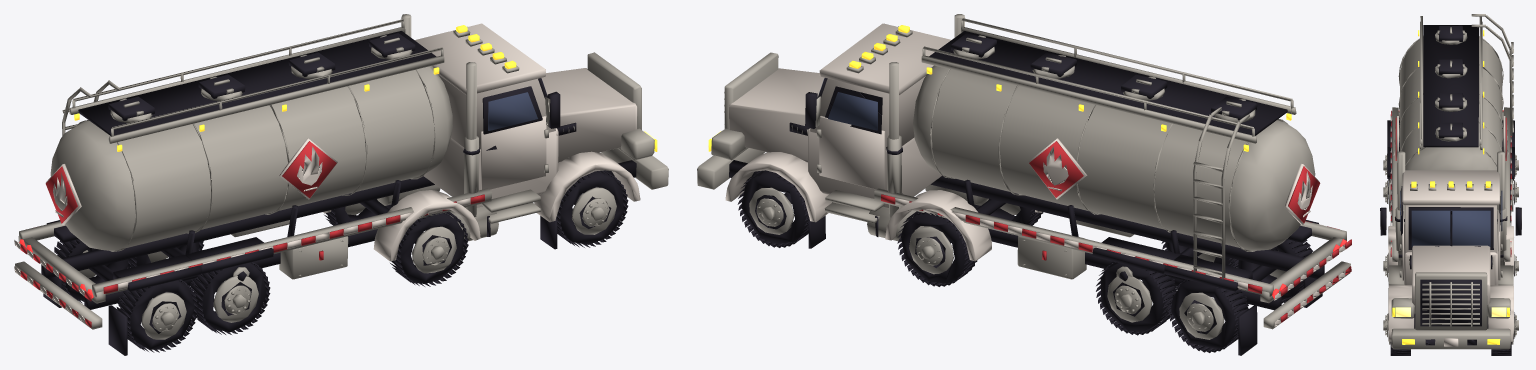
The model's file is veh.fuel-truck.lod1.glb.
3 views of the same model, side by side, from view 1: azimuth 30°, elevation 25°; view 2: azimuth 150°, elevation 25°; view 3: azimuth 270°, elevation 25° (orthographic). The views are drawn at different scales.
Parts seen in each view (by area): view 1: body, object 8, wheelRL, wheelFL, wheelRR; view 2: body, object 8, wheelRR, wheelFR, wheelRL; view 3: body, object 8, wheelFL, wheelFR, lightsFront.
Part boxes in pixels (x1,y1,x2,y2): body: [14, 14, 668, 355]; object 8: [130, 86, 560, 334]; wheelRL: [116, 279, 198, 352]; wheelFL: [556, 170, 628, 247]; wheelRR: [54, 239, 132, 303]; body: [697, 14, 1351, 355]; object 8: [711, 26, 1238, 335]; wheelRR: [1168, 279, 1248, 352]; wheelFR: [737, 170, 809, 247]; wheelRL: [1234, 239, 1313, 303]; body: [1387, 14, 1514, 349]; object 8: [1380, 179, 1521, 316]; wheelFL: [1383, 313, 1410, 355]; wheelFR: [1491, 312, 1518, 355]; lightsFront: [1395, 307, 1410, 316].
Size of the model in its own units: 11.26 by 4.17 by 3.13.
